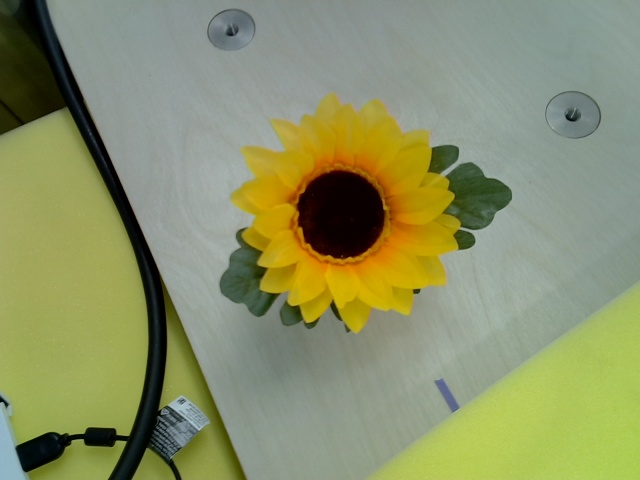해바라기: (234, 97, 456, 330)
